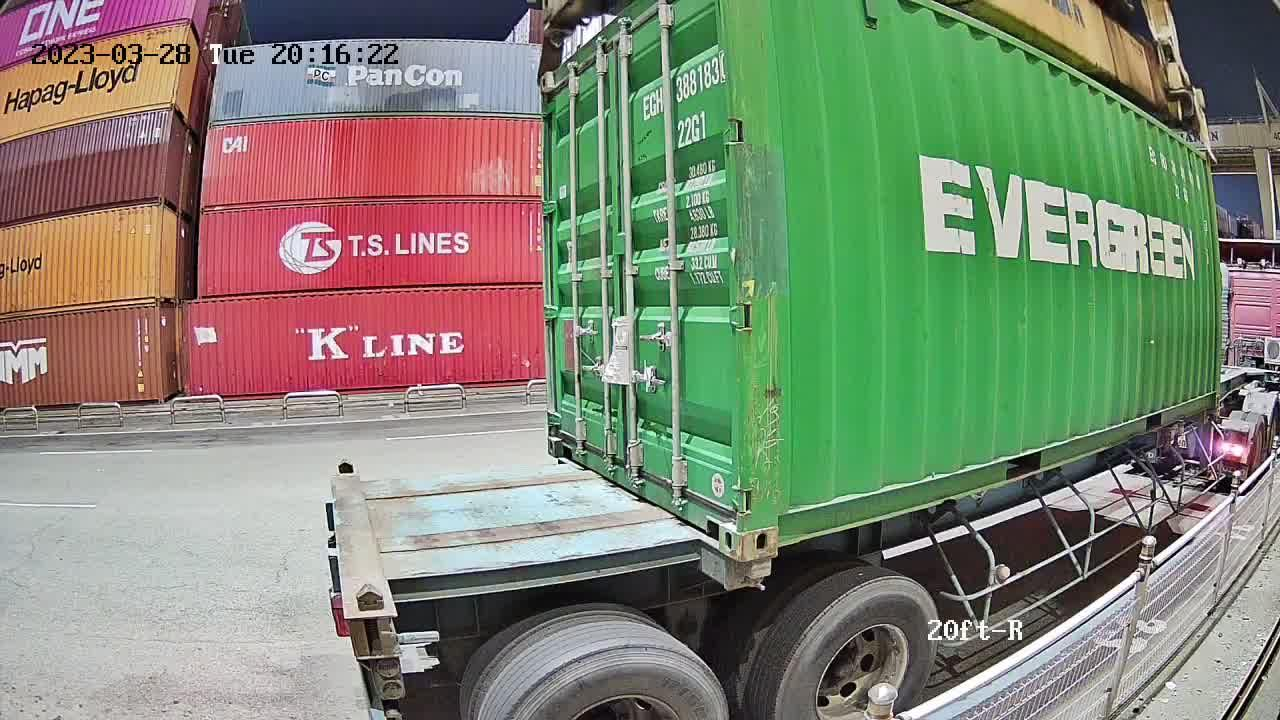Cone: (735, 553, 775, 593)
Hole_L: (743, 478, 807, 561), (547, 412, 583, 468)
Hole_R: (692, 471, 742, 560)
Tire: (775, 575, 937, 713), (500, 637, 726, 715)
